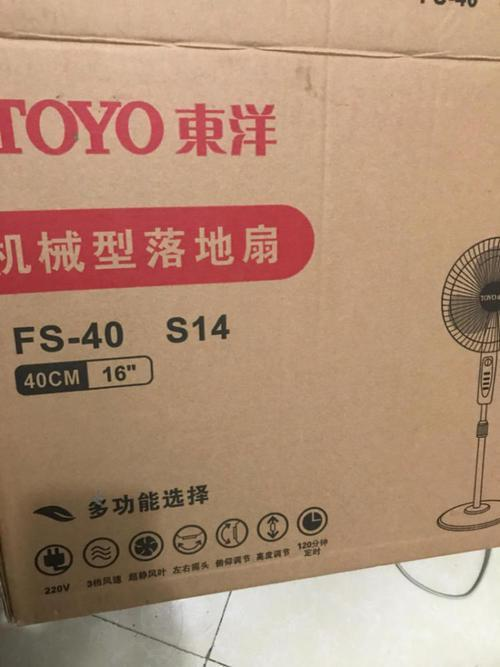cardboard: (0, 0, 499, 622)
